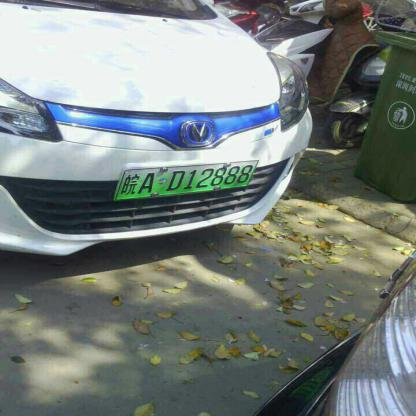lp: (116, 160, 260, 199)
